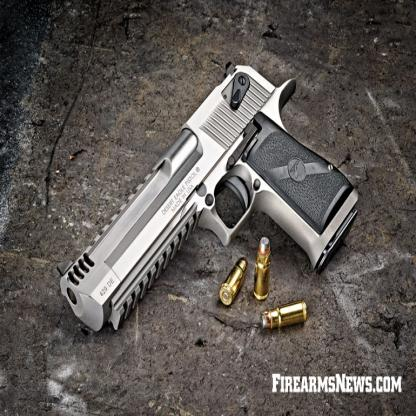handgun: (58, 55, 363, 358)
